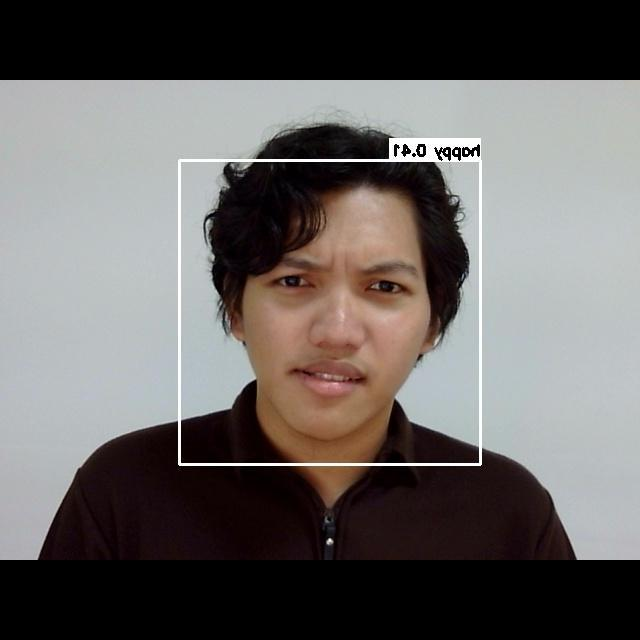Angry: (251, 233, 440, 424)
